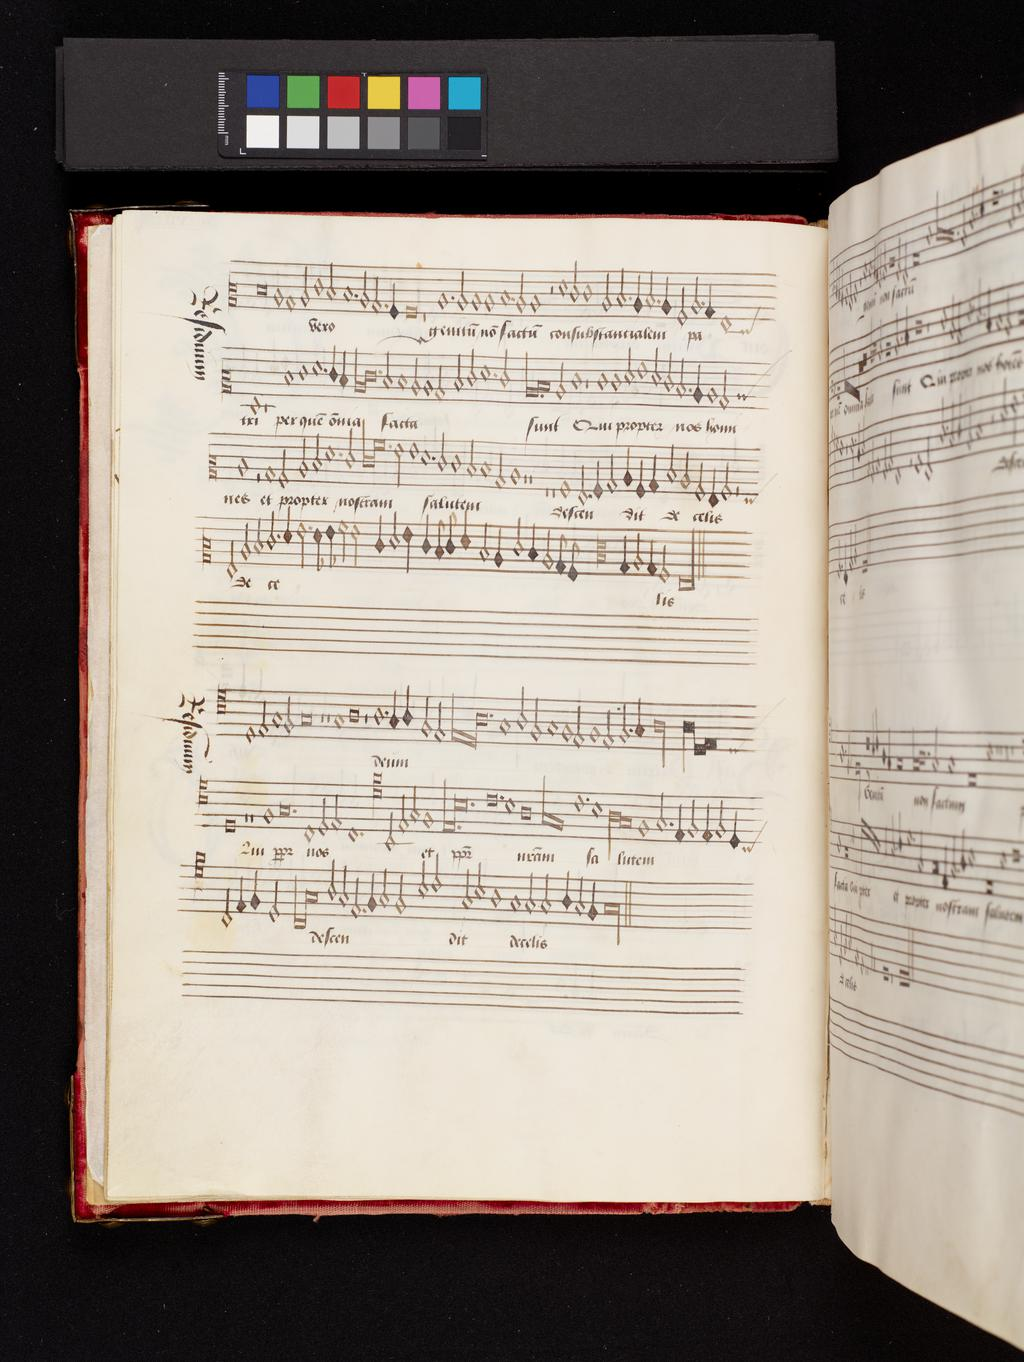barline: (622, 872, 636, 934)
c clef_3: (191, 850, 208, 889)
l1semibreve_12: (288, 869, 305, 936)
l2semibreve_8: (303, 886, 318, 927)
longa_8: (600, 893, 623, 950)
minim_10: (349, 869, 362, 925)
minim_12: (265, 870, 283, 926), (218, 878, 234, 931)
minim_5: (430, 852, 444, 899)
minim_6: (416, 853, 432, 904), (471, 856, 486, 904)
minim_7: (325, 854, 339, 905)
minim_8: (336, 857, 351, 912), (538, 867, 554, 918), (376, 860, 392, 911), (460, 864, 475, 914), (522, 867, 537, 917), (574, 871, 586, 921)
minim_9: (392, 864, 408, 920)
point: (357, 903, 368, 919)
semibreve_7: (487, 878, 504, 916)
semibreve_8: (507, 888, 523, 917)
semiminim_10: (234, 870, 247, 918)
semiminim_7: (559, 867, 573, 916)
semiminim_9: (248, 866, 262, 916), (586, 875, 599, 926), (365, 867, 378, 918)
